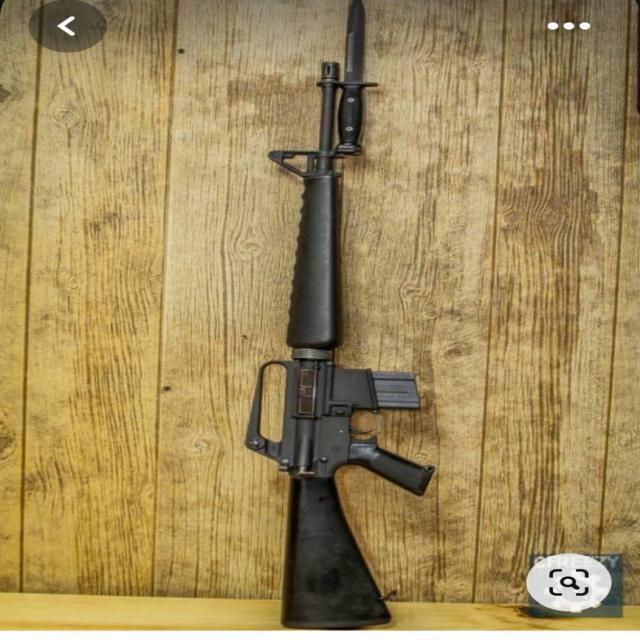m16: (150, 101, 490, 634)
